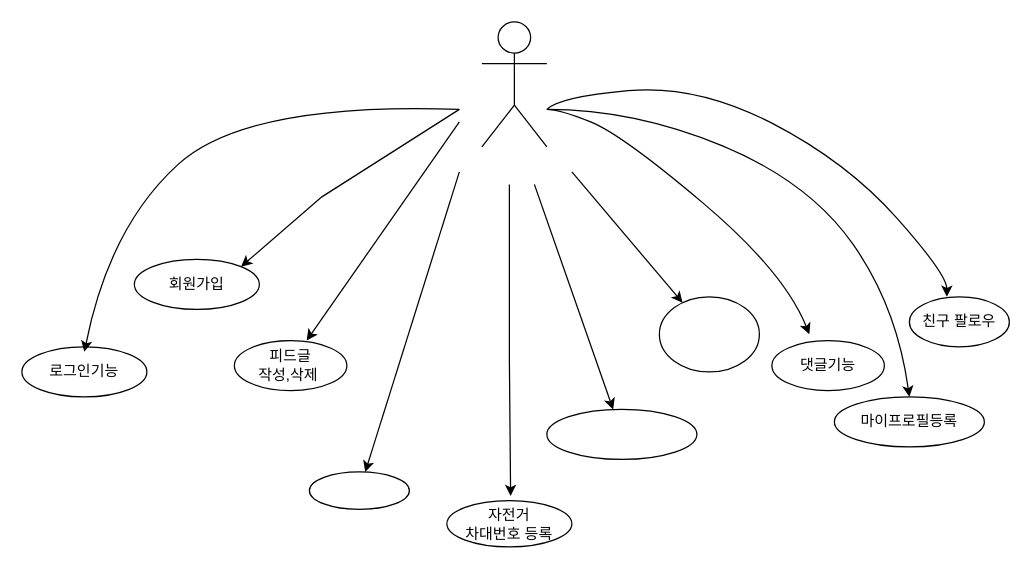
This 1031x569 diagram has some shape labels left out. The shapes that lost their labels are listed below. From the top down, each one's box as (x1, y1, x2, y2) in pixels, then its label:
(481, 21, 547, 147): 바멘텀 사용자
(658, 296, 759, 372): 좋아요 추가 및 삭제 기능
(546, 408, 697, 459): 배너광고 및 음악추천
(308, 471, 409, 509): 검색기능
